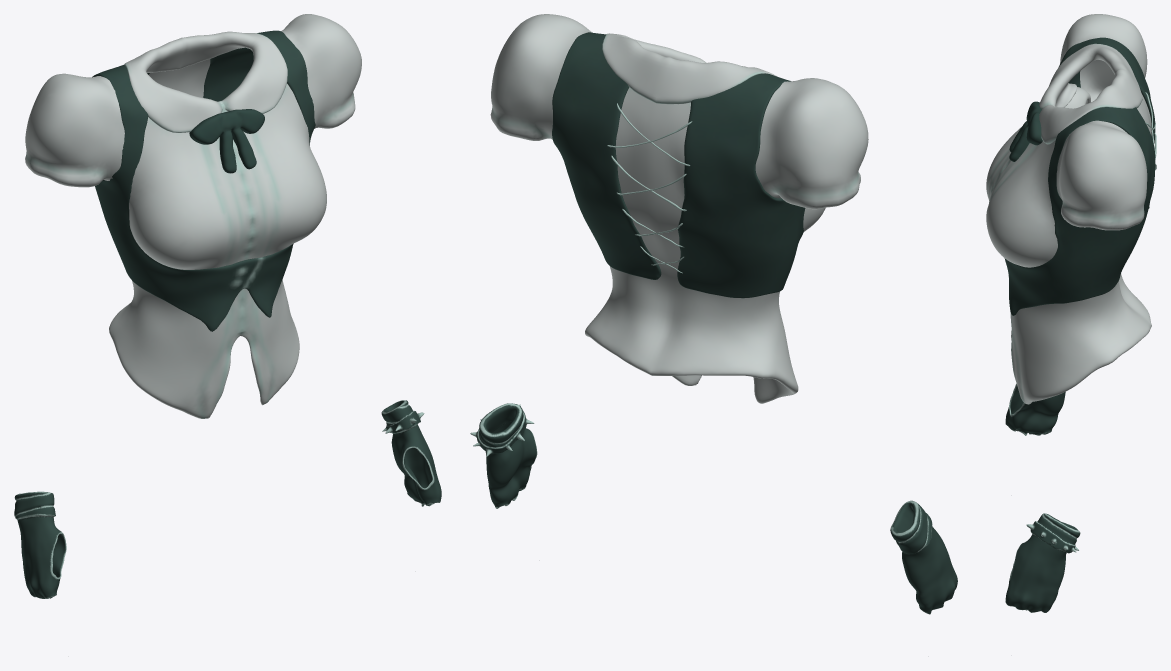
The model's file is greenPreppy-top.fbx.
3 views of the same model, side by side, from view 1: azimuth 30°, elevation 25°; view 2: azimuth 150°, elevation 25°; view 3: azimuth 270°, elevation 25° (orthographic). The views are drawn at different scales.
Visible parts, largest first — view 1: greenPreppy-top; view 2: greenPreppy-top; view 3: greenPreppy-top.
Part boxes in pixels (x1,y1,x2,y2): greenPreppy-top: (14, 14, 441, 598); greenPreppy-top: (470, 14, 957, 614); greenPreppy-top: (986, 14, 1156, 612).
Bounding box in the file's own units: 3.16 × 3.95 × 1.2.
